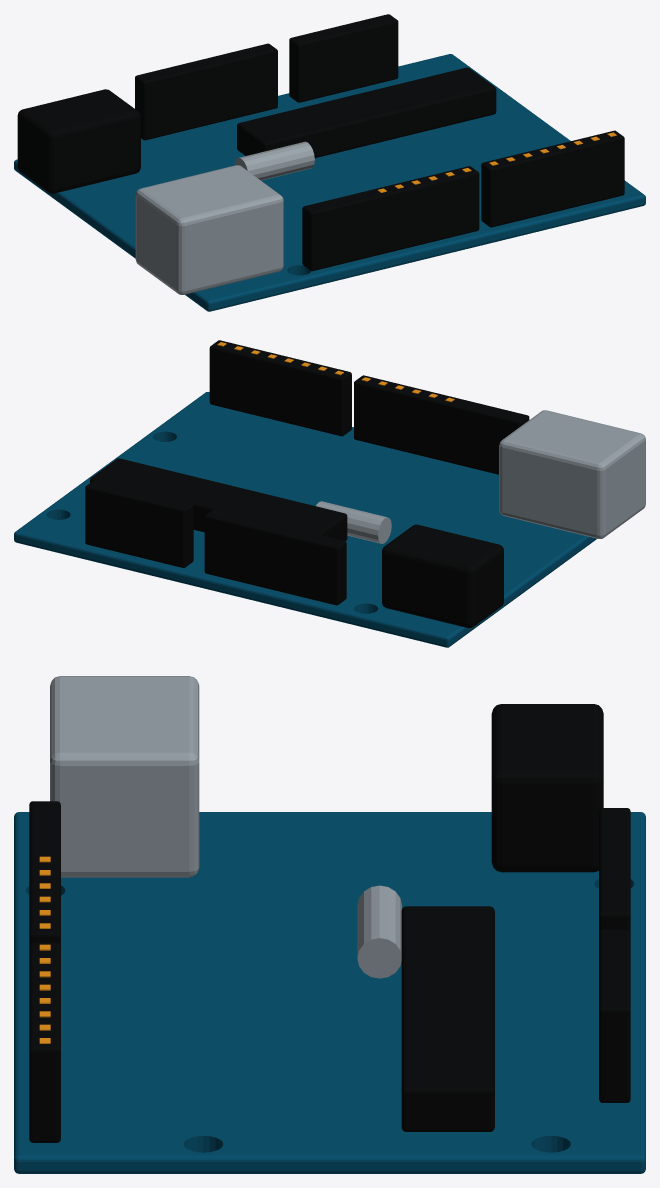
The model's file is arduino_uno.obj.
3 renders of one model, top to bottom at view 1: azimuth 30°, elevation 25°; view 2: azimuth 150°, elevation 25°; view 3: azimuth 270°, elevation 25°, orthographic. The views are drawn at different scales.
Parts seen in each view (by area): view 1: arduino_uno; view 2: arduino_uno; view 3: arduino_uno.
Boxes of the visible parts, box(x1,y1,x2,y2) form: arduino_uno: box(14, 14, 645, 311); arduino_uno: box(14, 340, 645, 647); arduino_uno: box(14, 676, 645, 1173).
Bounding box in the file's own units: 0.0686 × 0.0126 × 0.0508.
